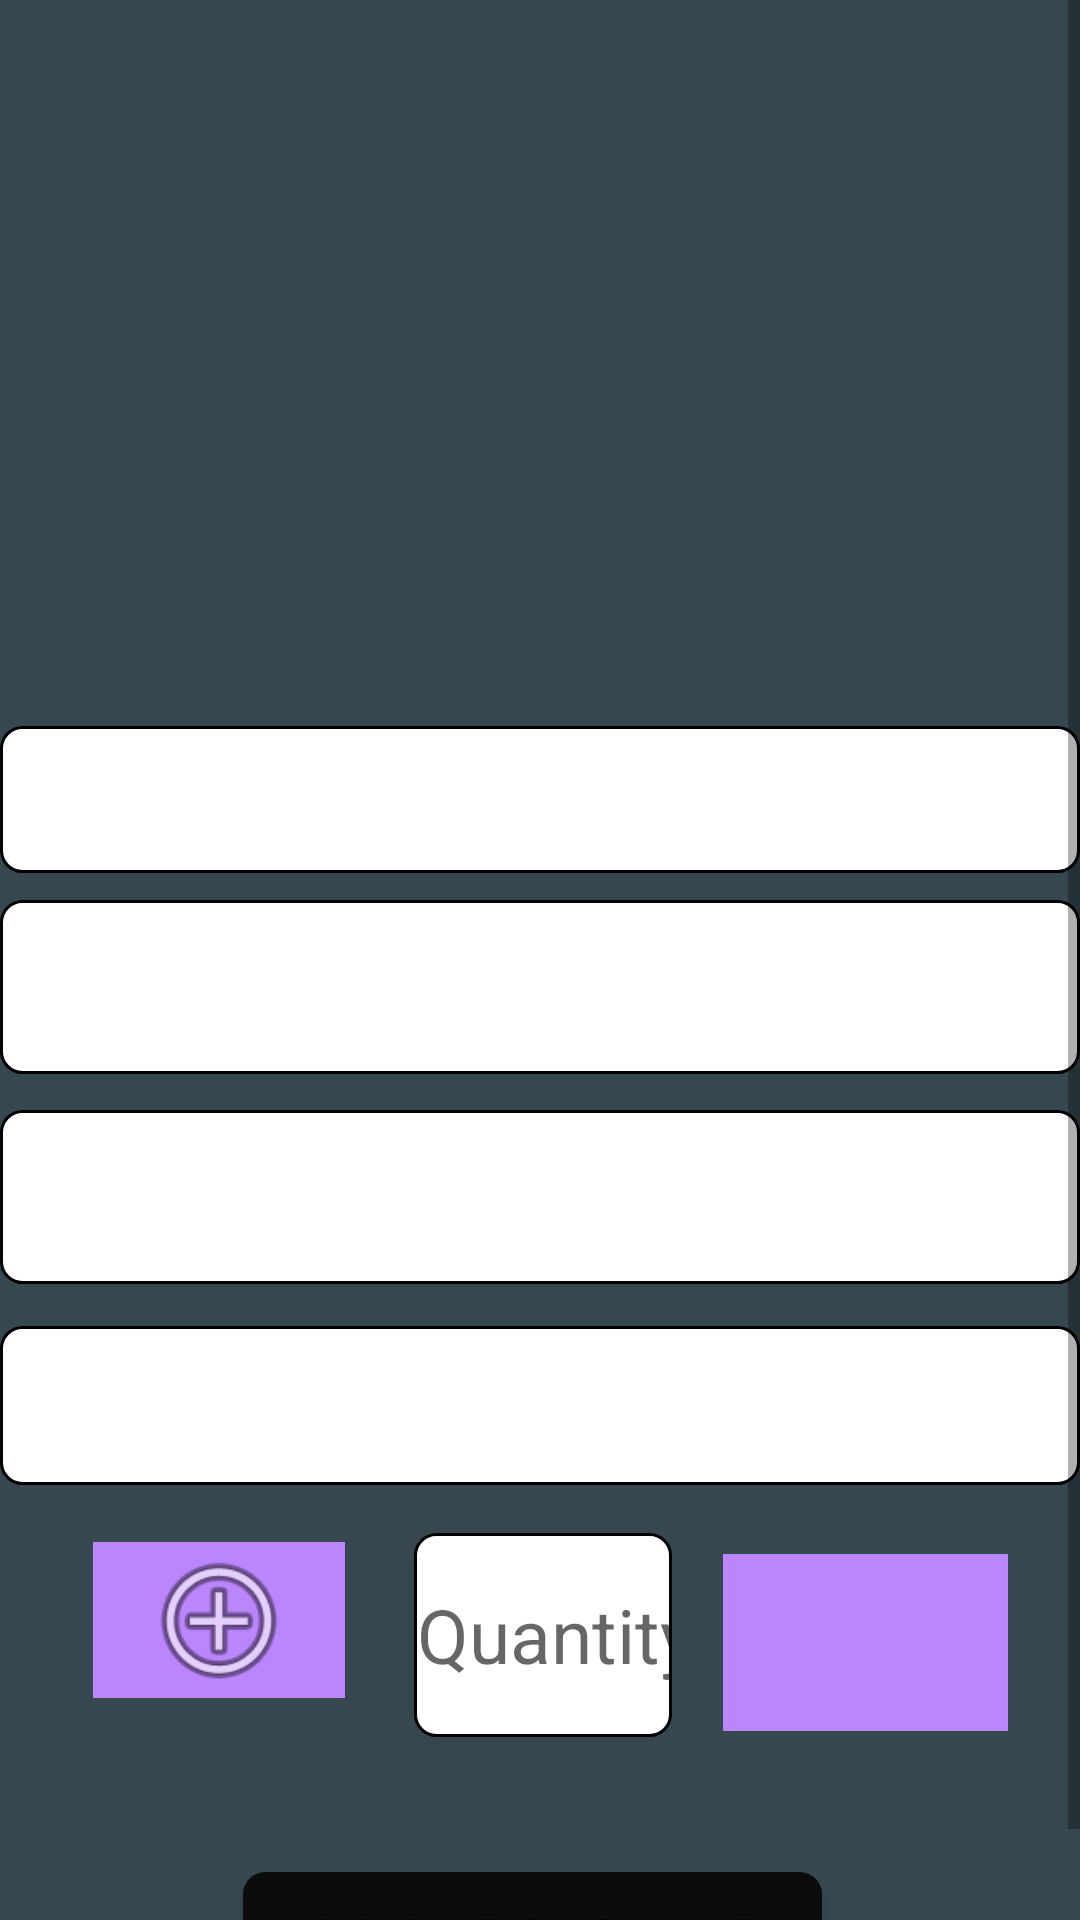

Locate icon controls on the screen. Image size 1080w x 1920h, boxes as (x1,y1,x2,y2).
add: (93,1542,345,1698)
